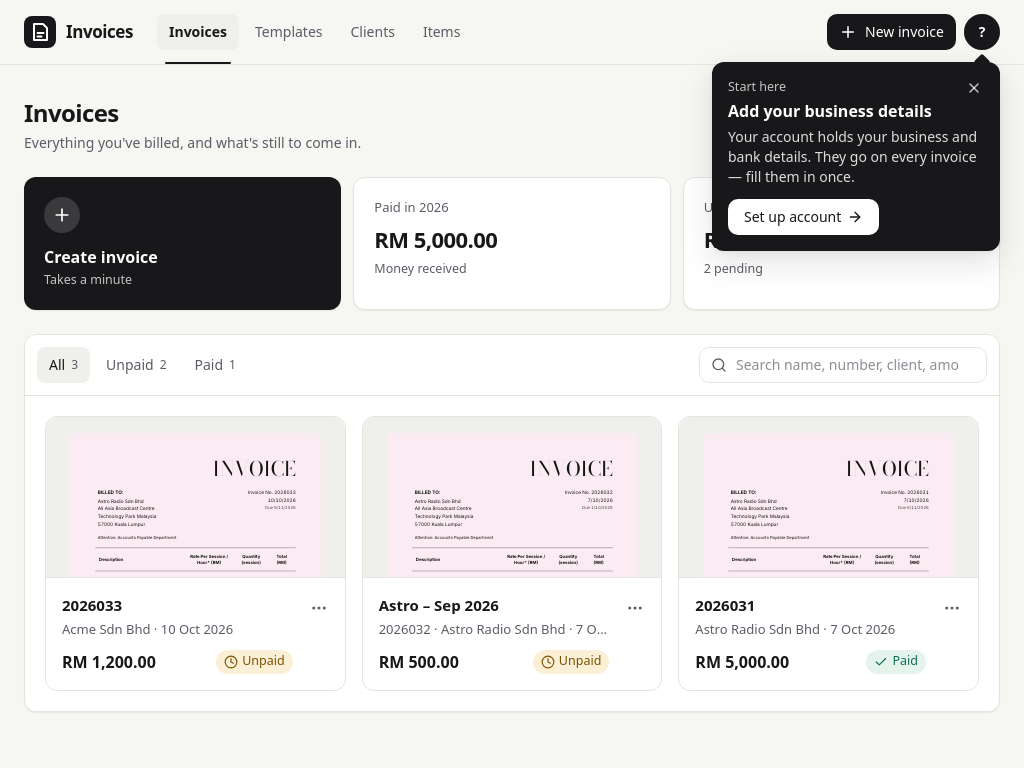
invoices dashboard › has a "Create invoice" box beside the figures
Step 1. Click the button "Create invoice Takes a minute" → [62, 215], box [24,177,341,310]
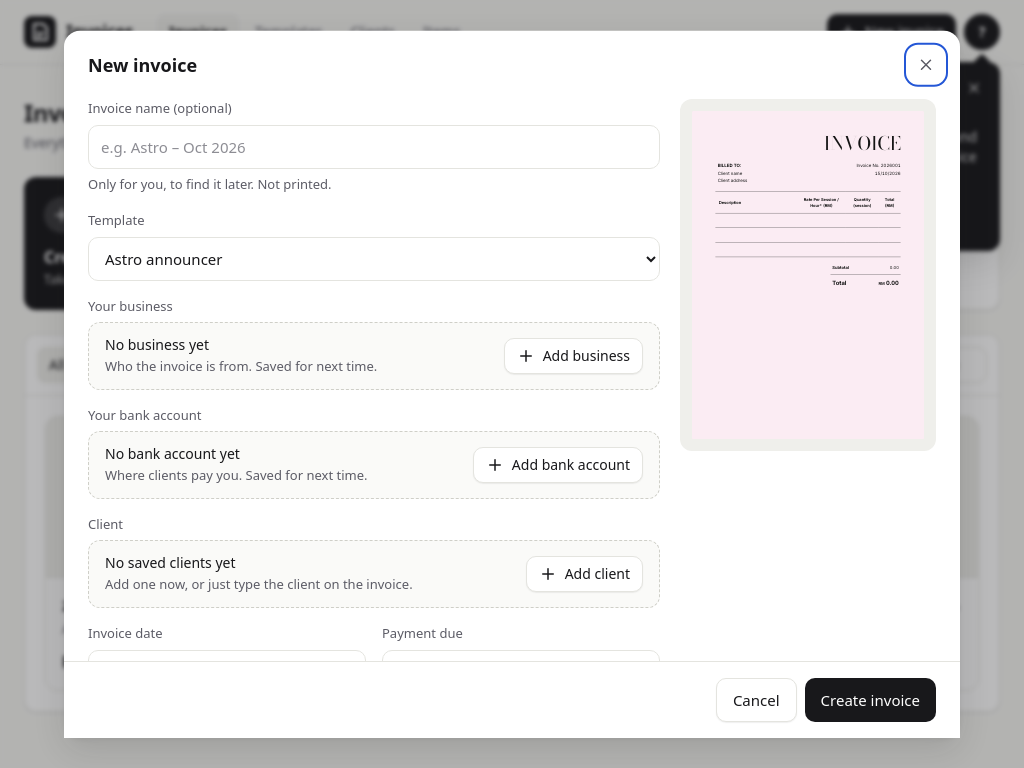
Now the dialog "New invoice" is shown
